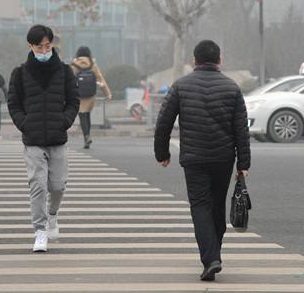person: (154, 39, 254, 281), (8, 24, 69, 253), (65, 44, 112, 152)
